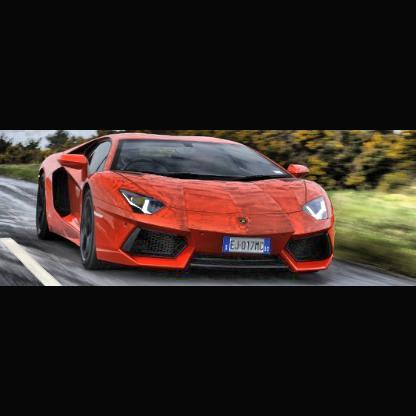Lamborghini Aventador Coupe 2012: (32, 132, 343, 281)
